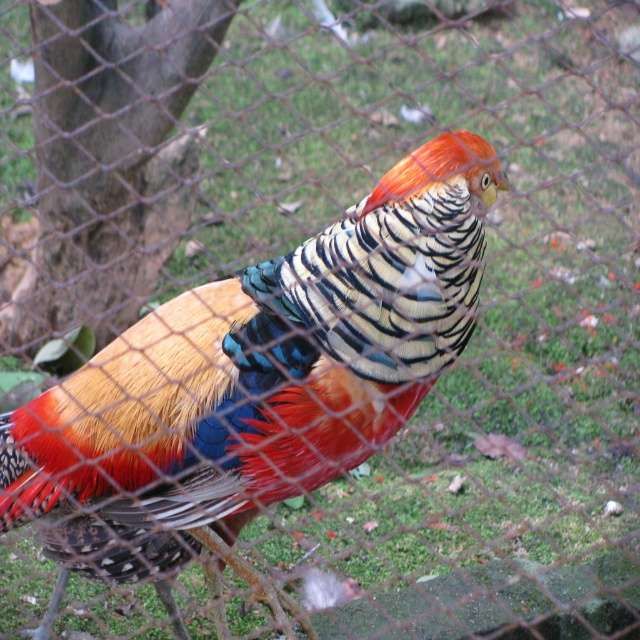Chicken: (0, 130, 508, 639)
